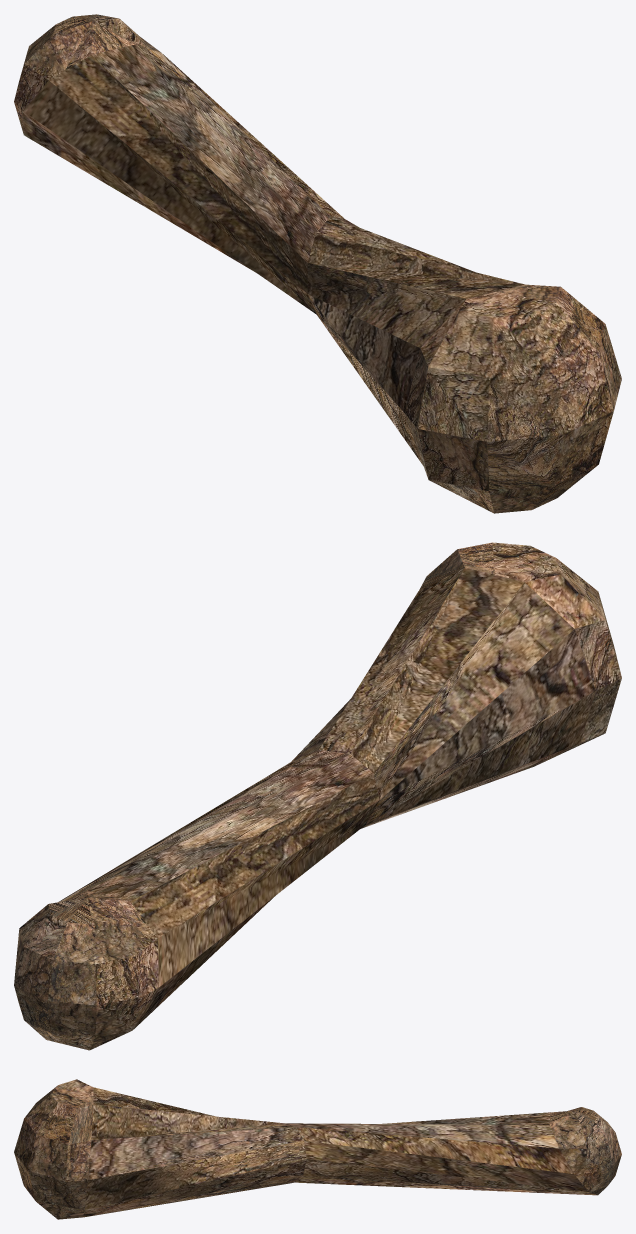
Rendered from forearm_v2.glb.
3 views of the same model, one above another, from view 1: azimuth 30°, elevation 25°; view 2: azimuth 150°, elevation 25°; view 3: azimuth 270°, elevation 25° (orthographic). The views are drawn at different scales.
Visible parts, largest first — view 1: Cylinder.026; view 2: Cylinder.026; view 3: Cylinder.026.
Part boxes in pixels (box(x1,y1,x2,y2)): Cylinder.026: box(14, 14, 621, 513); Cylinder.026: box(14, 542, 621, 1050); Cylinder.026: box(14, 1079, 621, 1219).
Size of what is drawn, in the model's own units: 2.48 by 2.25 by 10.68.
Materials: 2 (2 with a texture image).
